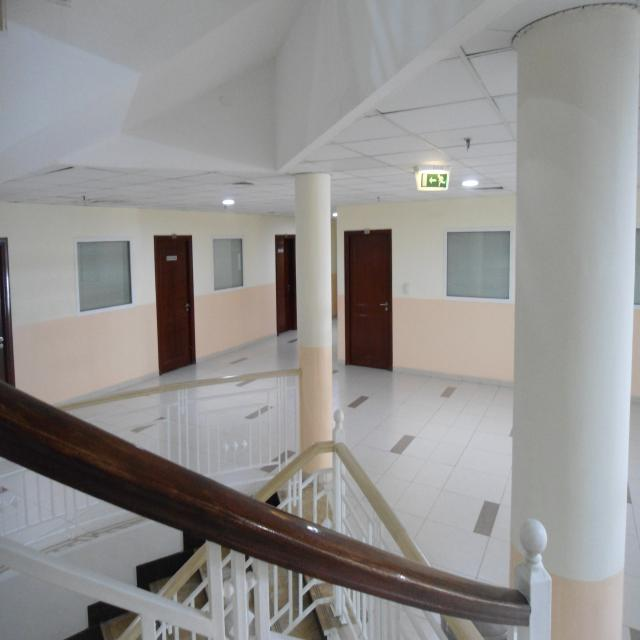door: (153, 227, 200, 374), (344, 227, 391, 371), (276, 232, 302, 334)
exitLight: (412, 164, 454, 198)
pillar: (510, 7, 640, 639), (295, 173, 333, 451), (295, 173, 333, 450)
railing: (0, 388, 302, 554), (111, 443, 326, 640), (323, 440, 483, 640)
stairs: (44, 470, 359, 640)
